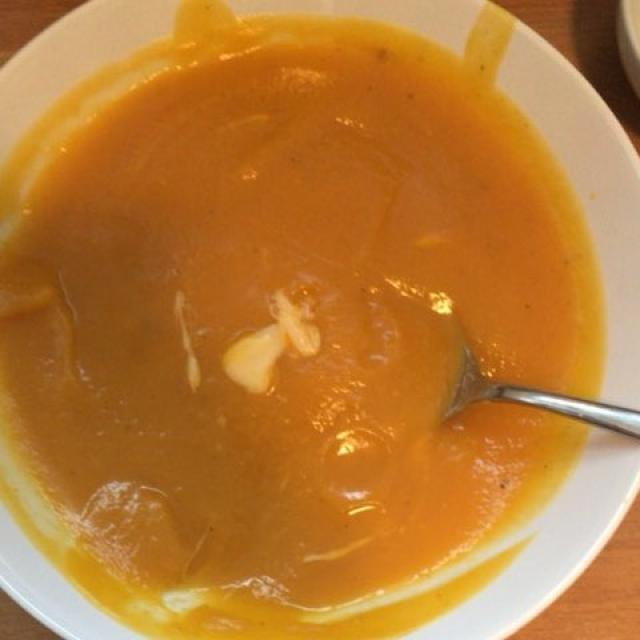soup: (13, 19, 605, 623)
